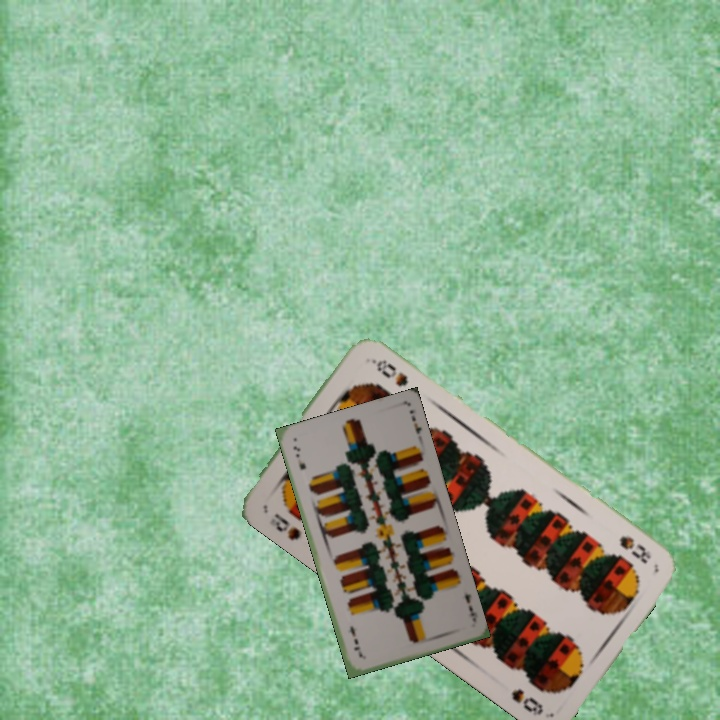E7: (461, 590, 480, 624), (289, 442, 308, 472)
S8: (615, 531, 654, 567), (270, 508, 304, 543)
